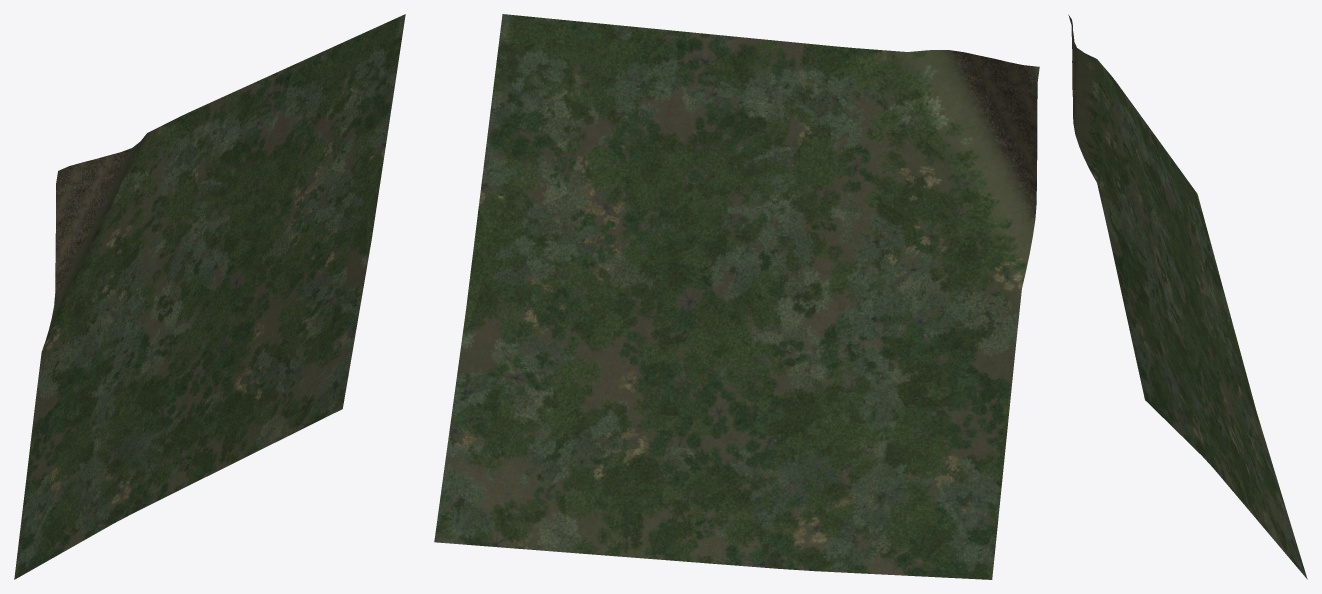
Rendered from terrain_core_06_00.obj.
3 renders of one model, left to right at view 1: azimuth 30°, elevation 25°; view 2: azimuth 150°, elevation 25°; view 3: azimuth 270°, elevation 25°, orthographic. The views are drawn at different scales.
Parts seen in each view (by area): view 1: terrain_core_06_00; view 2: terrain_core_06_00; view 3: terrain_core_06_00.
Boxes of the visible parts, bbox=[...] form: terrain_core_06_00: bbox=[14, 14, 405, 579]; terrain_core_06_00: bbox=[434, 14, 1039, 579]; terrain_core_06_00: bbox=[1068, 14, 1307, 579].
Bounding box in the file's own units: 32 × 32 × 18.
Materials: 1 (1 with a texture image).
